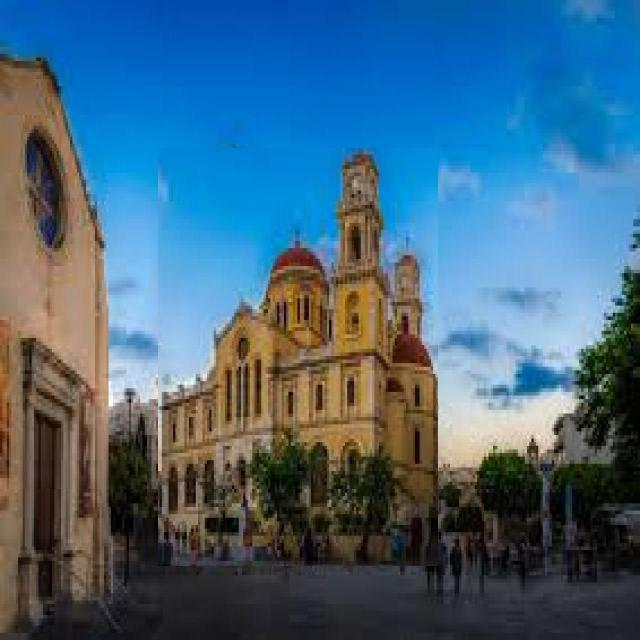Agios Minas: (159, 149, 439, 567)
